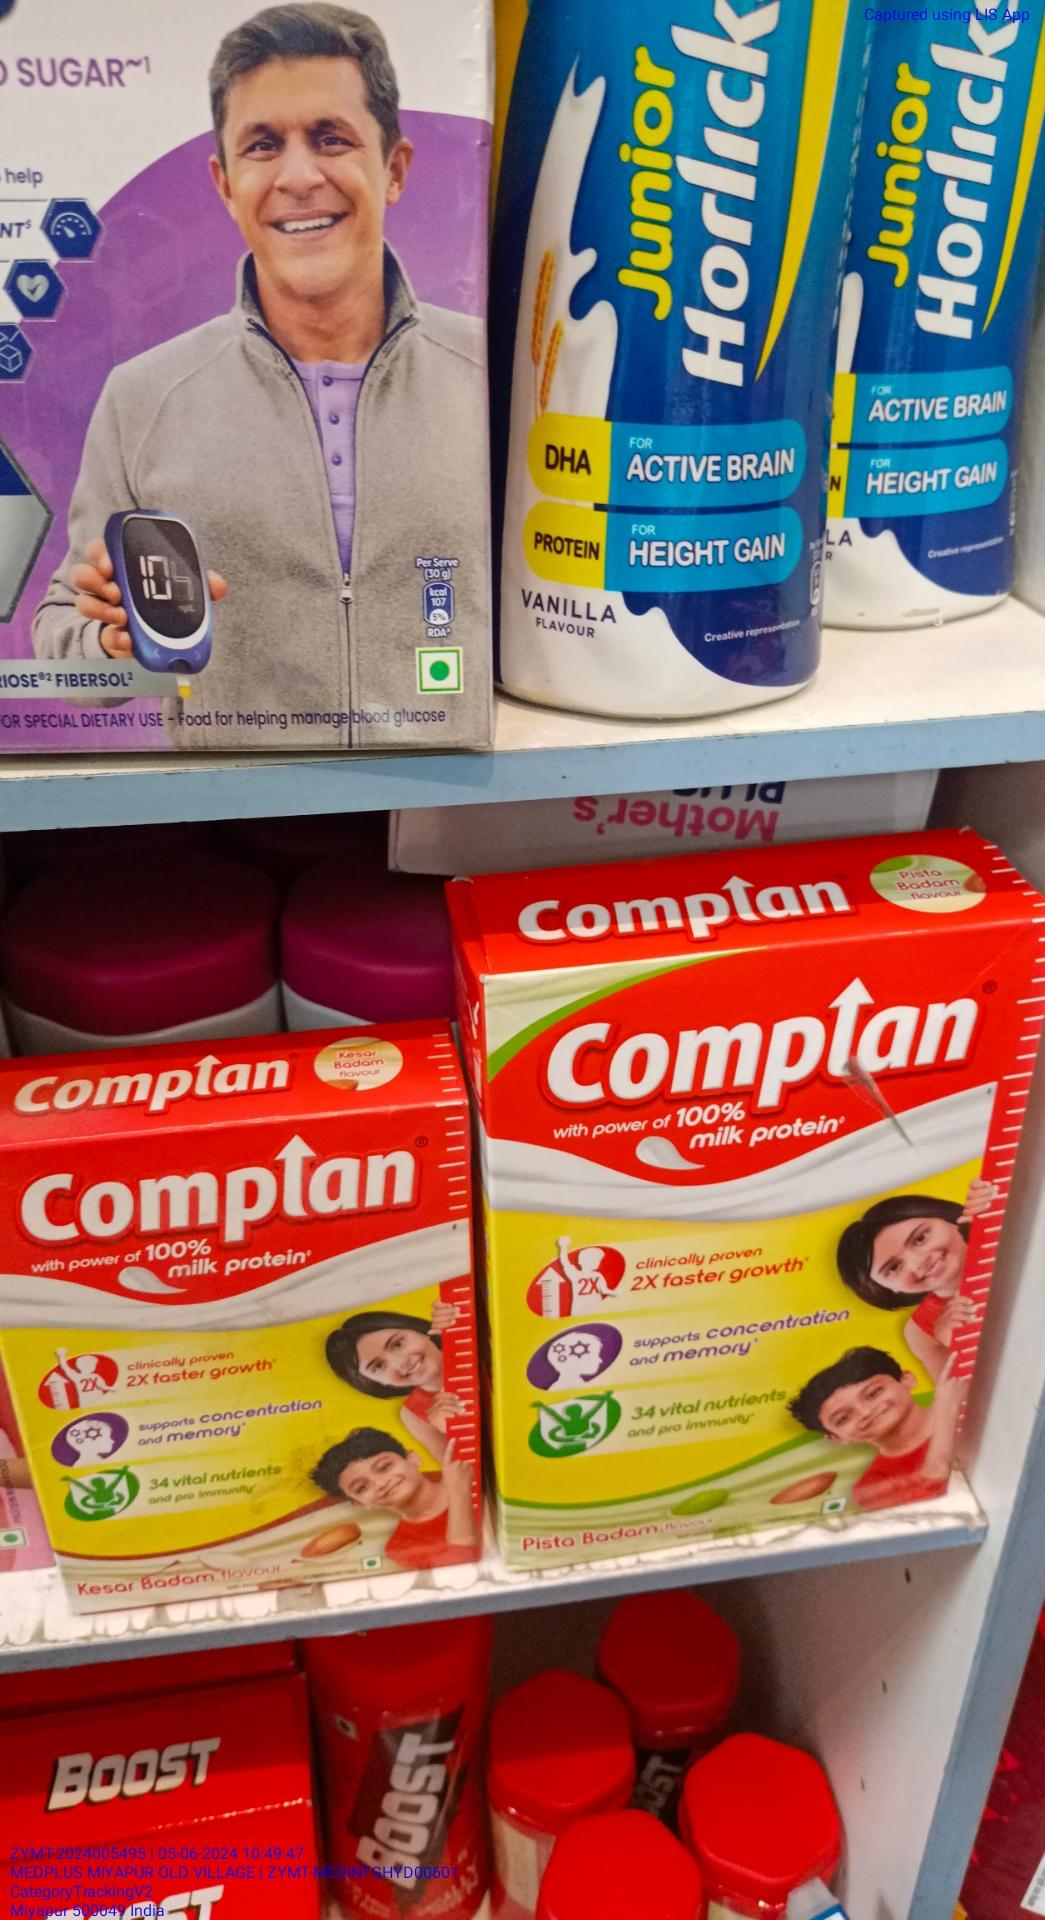COMPLAN_KESAR_BADAM_200_GMS_PACK: (0, 1138, 474, 1576)
COMPLAN_PISTA_BADAM_500_GMS_PACK: (486, 969, 1032, 1515)
HORLICKS_JUNIOR_VANILLA_500_GM_JAR: (508, 0, 835, 730)
